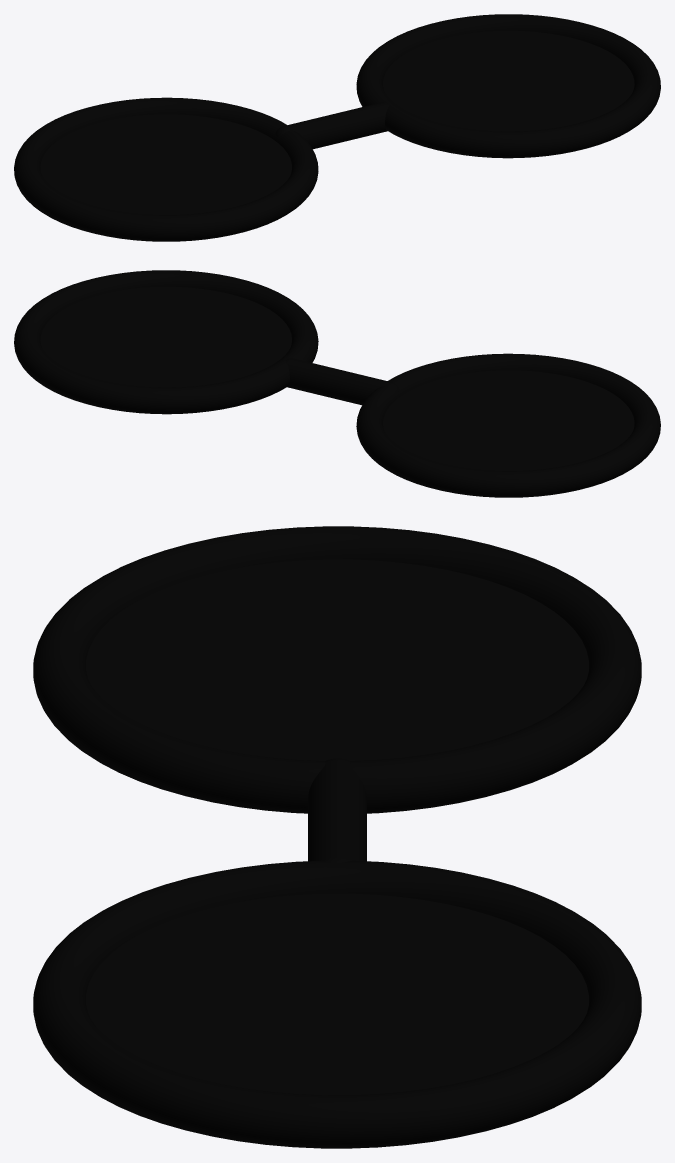
The model's file is Sunglasses.obj.
The picture shows the model from 3 angles, top to bottom: view 1: azimuth 30°, elevation 25°; view 2: azimuth 150°, elevation 25°; view 3: azimuth 270°, elevation 25°; orthographic projection. The views are drawn at different scales.
Visible parts, largest first — view 1: 002_Cylinder_1, 003_Cylinder, 001_Torus_1, 004_Torus, 000_Cylinder_2; view 2: 002_Cylinder_1, 003_Cylinder, 001_Torus_1, 004_Torus, 000_Cylinder_2; view 3: 002_Cylinder_1, 003_Cylinder, 004_Torus, 001_Torus_1, 000_Cylinder_2.
Part boxes in pixels (x1,y1,x2,y2): 002_Cylinder_1: [383, 30, 634, 131]; 003_Cylinder: [40, 114, 291, 214]; 001_Torus_1: [14, 97, 318, 241]; 004_Torus: [356, 14, 660, 158]; 000_Cylinder_2: [275, 102, 389, 149]; 002_Cylinder_1: [40, 286, 291, 387]; 003_Cylinder: [383, 370, 634, 470]; 001_Torus_1: [356, 353, 660, 497]; 004_Torus: [14, 270, 318, 414]; 000_Cylinder_2: [285, 358, 399, 405]; 002_Cylinder_1: [86, 893, 588, 1095]; 003_Cylinder: [86, 559, 588, 760]; 004_Torus: [33, 860, 641, 1148]; 001_Torus_1: [33, 526, 641, 813]; 000_Cylinder_2: [308, 758, 366, 862].
Size of the model in its own units: 252 by 10.71 by 110.
3 materials, 2 textured.
